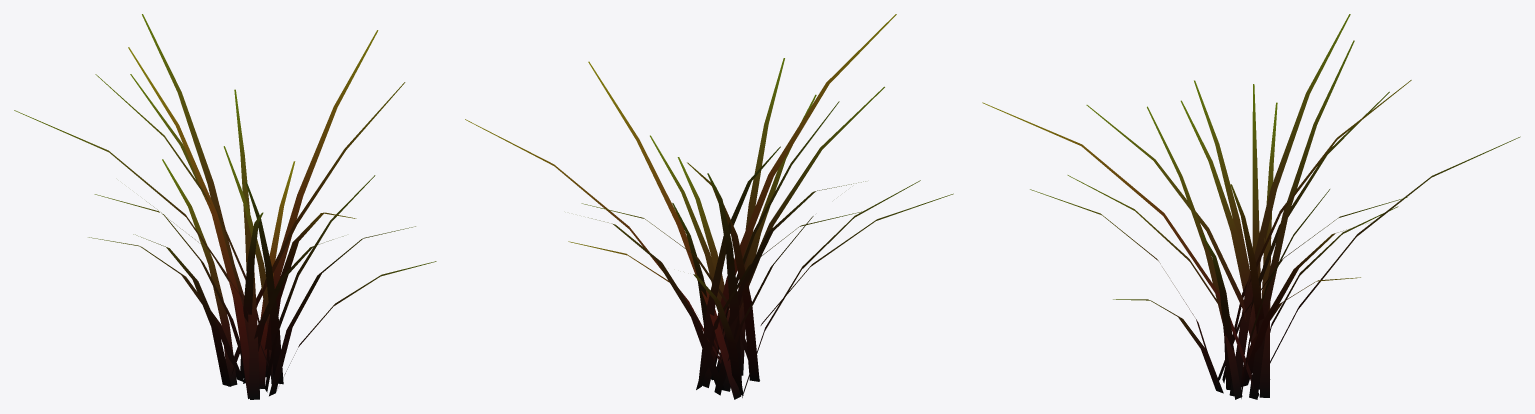
The model's file is tall_grass_b.glb.
3 renders of one model, left to right at view 1: azimuth 30°, elevation 25°; view 2: azimuth 150°, elevation 25°; view 3: azimuth 270°, elevation 25°, orthographic. The views are drawn at different scales.
Parts seen in each view (by area): view 1: tall_grass_b; view 2: tall_grass_b; view 3: tall_grass_b.
Part boxes in pixels (<box>): tall_grass_b: <box>14,14,436,399</box>; tall_grass_b: <box>465,14,953,399</box>; tall_grass_b: <box>982,14,1520,399</box>.
Size of the model in its own units: 1.56 by 1.16 by 1.91.
Materials: 1 (1 with a texture image).
